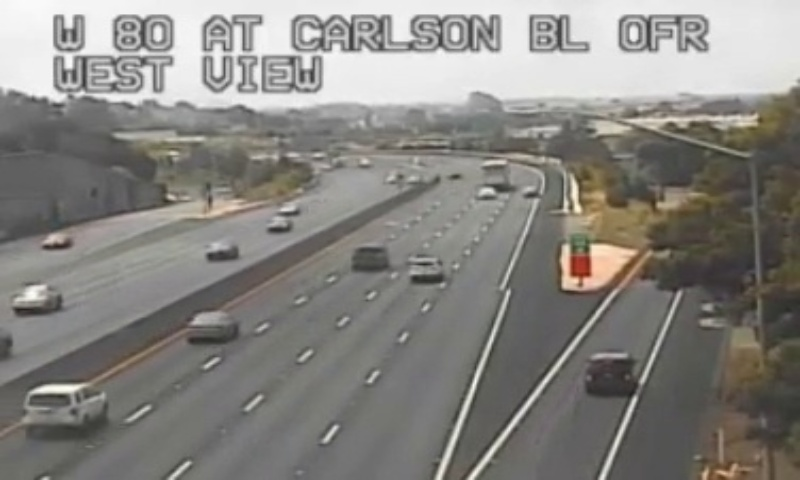car: (23, 383, 106, 426), (585, 353, 634, 393), (185, 312, 236, 341), (352, 244, 386, 269), (408, 256, 442, 279)
